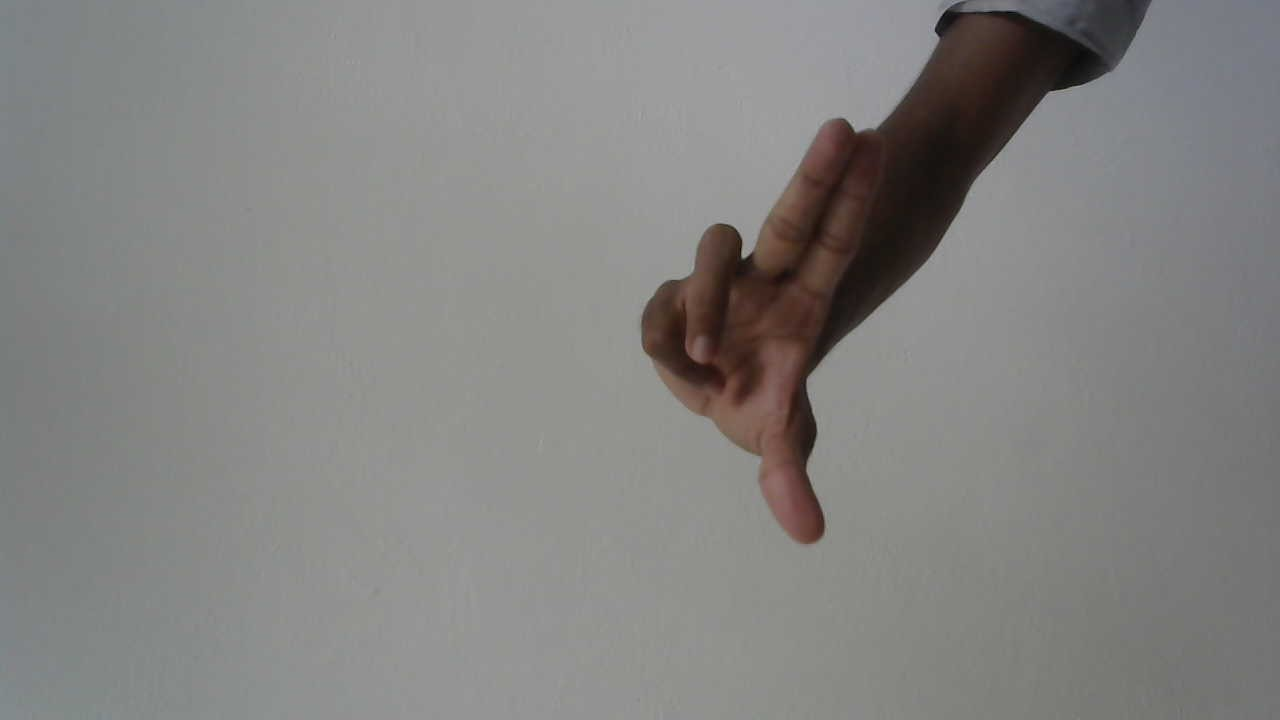no: (631, 103, 902, 554)
